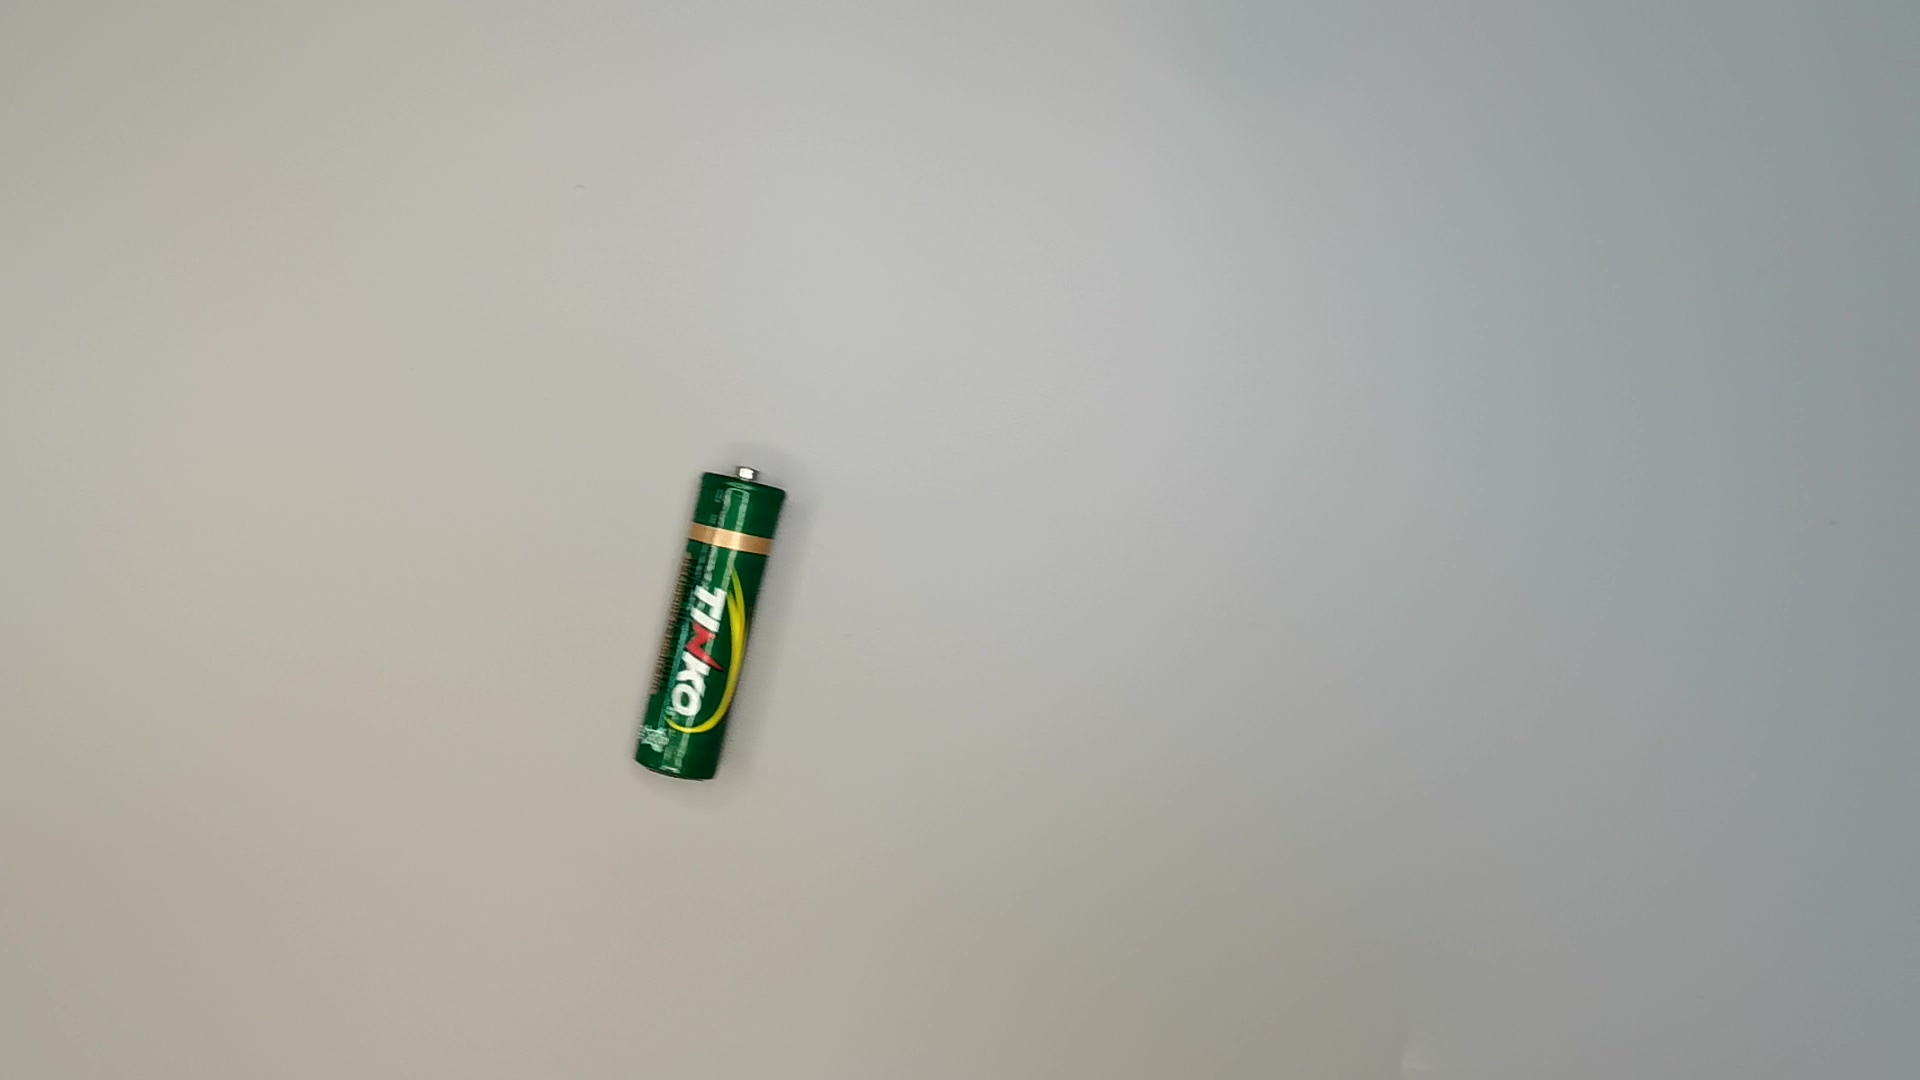battery: (611, 463, 793, 778)
